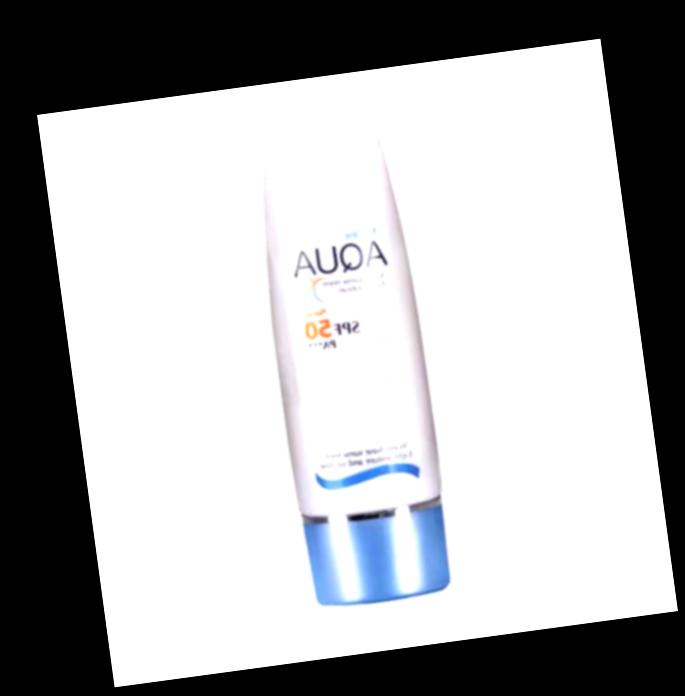cosmetic: (245, 118, 455, 610)
